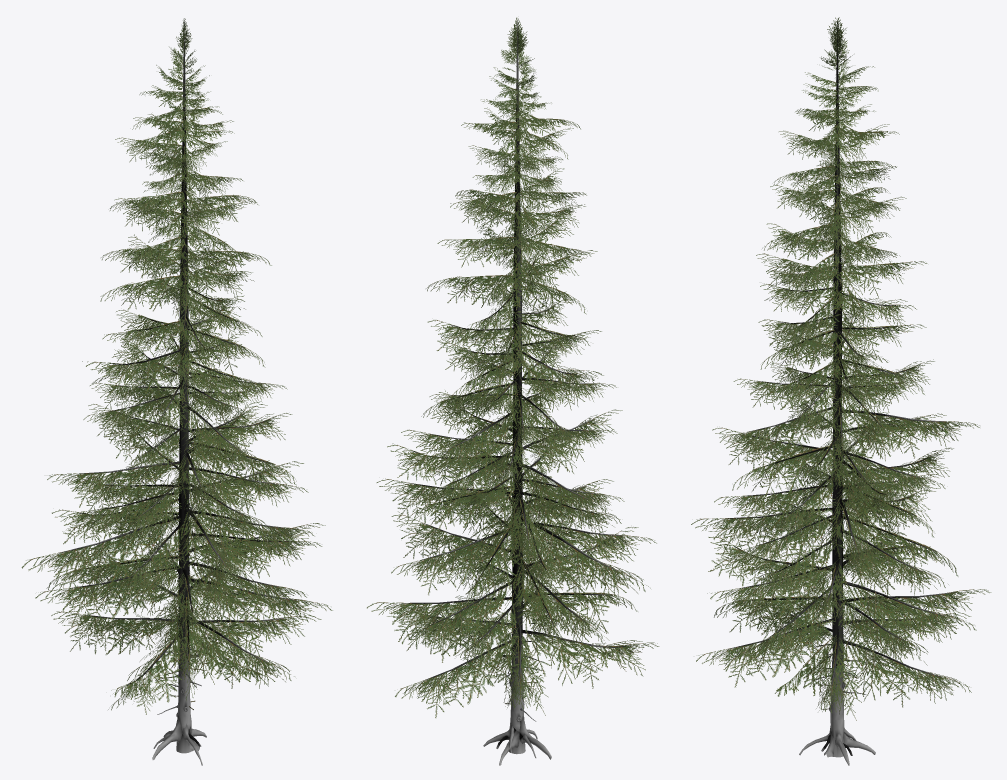
Rendered from PW_Tree_Spruce_05 Hero.fbx.
3 views of the same model, side by side, from view 1: azimuth 30°, elevation 25°; view 2: azimuth 150°, elevation 25°; view 3: azimuth 270°, elevation 25° (orthographic).
Visible parts, largest first — view 1: PW_Tree_Hero_Spruce_05_LOD0; view 2: PW_Tree_Hero_Spruce_05_LOD0; view 3: PW_Tree_Hero_Spruce_05_LOD0.
Boxes of the visible parts, x1,y1,x2,y2 form: PW_Tree_Hero_Spruce_05_LOD0: [21, 18, 332, 765]; PW_Tree_Hero_Spruce_05_LOD0: [367, 17, 659, 765]; PW_Tree_Hero_Spruce_05_LOD0: [691, 17, 991, 765].
Size of what is drawn, in the model's own units: 573 by 1427 by 529.
